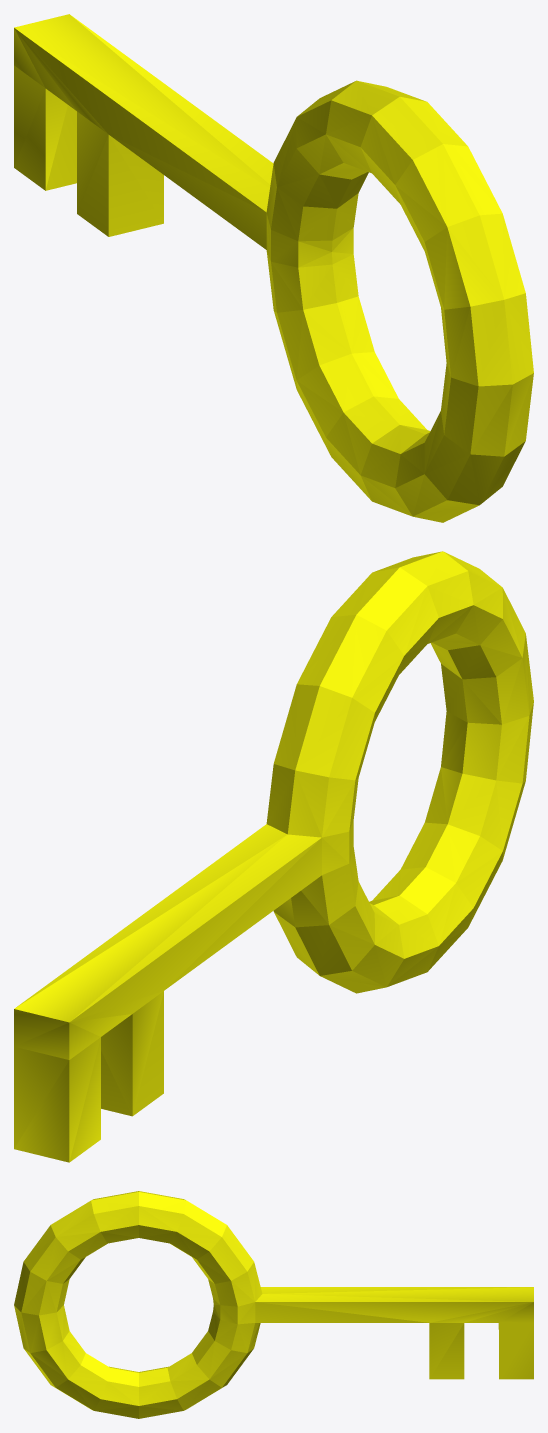
The model's file is key.glb.
3 renders of one model, top to bottom at view 1: azimuth 30°, elevation 25°; view 2: azimuth 150°, elevation 25°; view 3: azimuth 270°, elevation 25°, orthographic. The views are drawn at different scales.
Parts seen in each view (by area): view 1: Torus1; view 2: Torus1; view 3: Torus1.
Part boxes in pixels (left/top/right/bottom): Torus1: left=14, top=14, right=533, bottom=522; Torus1: left=14, top=551, right=533, bottom=1162; Torus1: left=14, top=1191, right=533, bottom=1418.
Size of the model in its own units: 0.096 by 0.4802 by 1.
